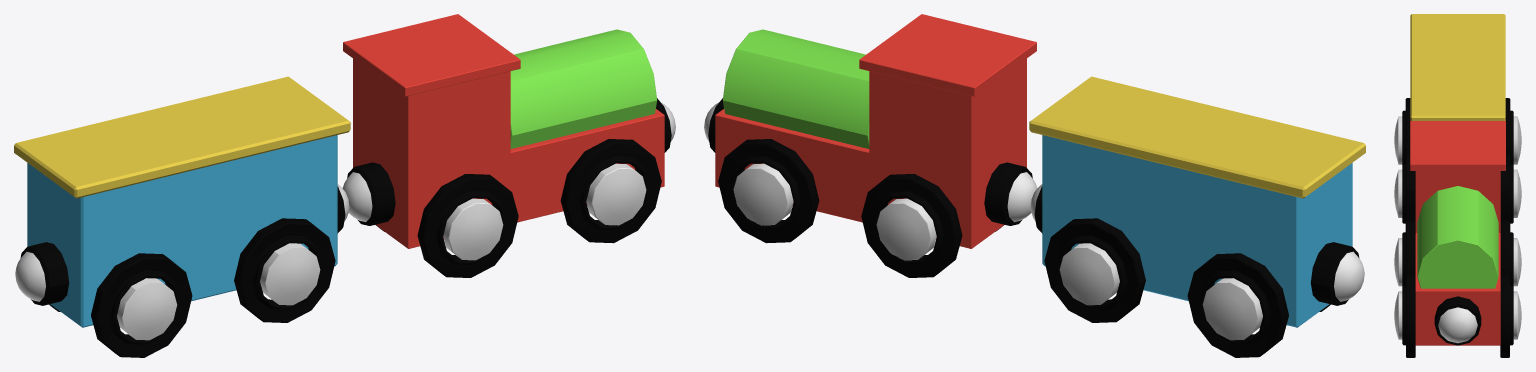
File: train_export5.fbx
3 views of the same model, side by side, from view 1: azimuth 30°, elevation 25°; view 2: azimuth 150°, elevation 25°; view 3: azimuth 270°, elevation 25° (orthographic). The views are drawn at different scales.
Parts seen in each view (by area): view 1: wheel, base.001; view 2: wheel, base.001; view 3: base.001, wheel.
Part boxes in pixels (box(x1,y1,x2,y2)): wheel: box(14, 76, 350, 357); base.001: box(342, 14, 675, 277); wheel: box(1029, 76, 1365, 357); base.001: box(704, 14, 1037, 277); base.001: box(1394, 121, 1521, 357); wheel: box(1394, 14, 1521, 231).
Bounding box in the file's own units: 1354 × 405 × 299.
